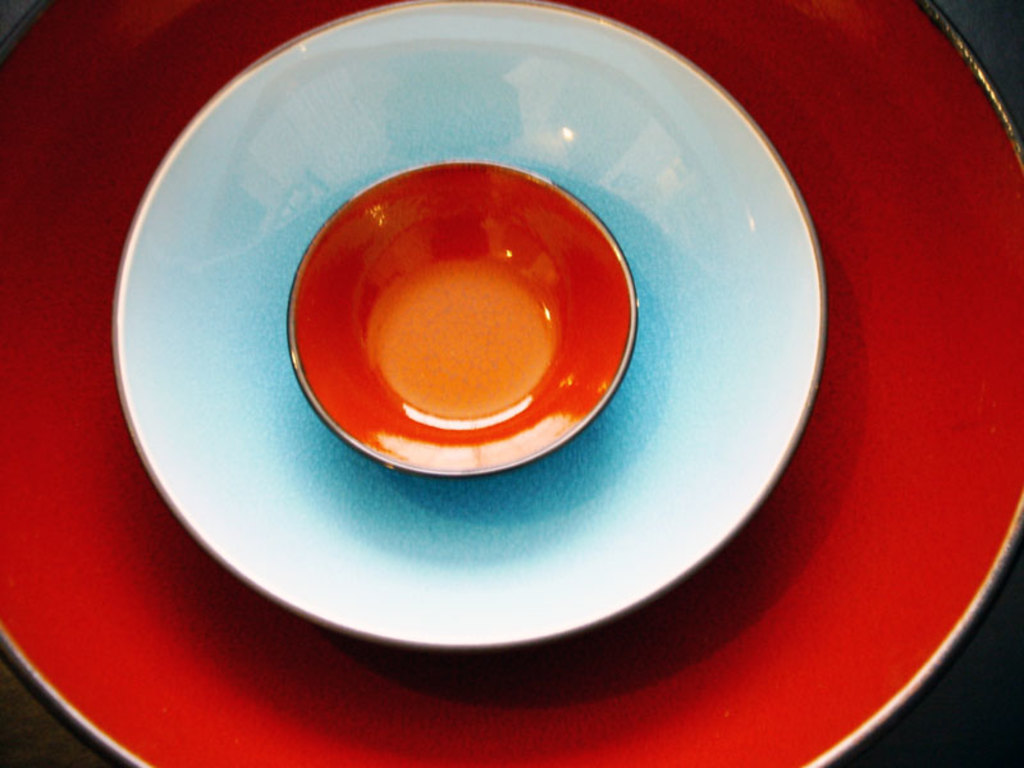plate: (1, 0, 1022, 766)
